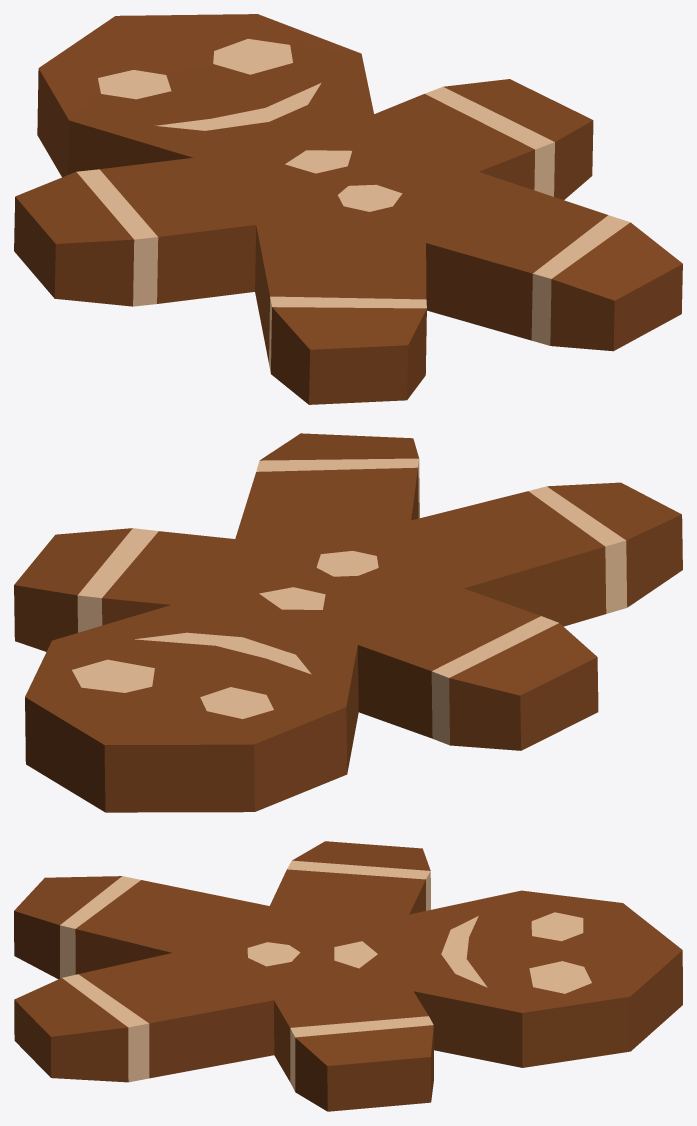
Rendered from gingerbread.fbx.
The picture shows the model from 3 angles, top to bottom: view 1: azimuth 30°, elevation 25°; view 2: azimuth 150°, elevation 25°; view 3: azimuth 270°, elevation 25°; orthographic projection. The views are drawn at different scales.
Parts seen in each view (by area): view 1: gingerbread; view 2: gingerbread; view 3: gingerbread.
Part boxes in pixels (<box>): gingerbread: <box>14,14,682,404</box>; gingerbread: <box>14,433,682,812</box>; gingerbread: <box>14,841,682,1111</box>.
Bounding box in the file's own units: 30.01 × 3.95 × 38.87.
